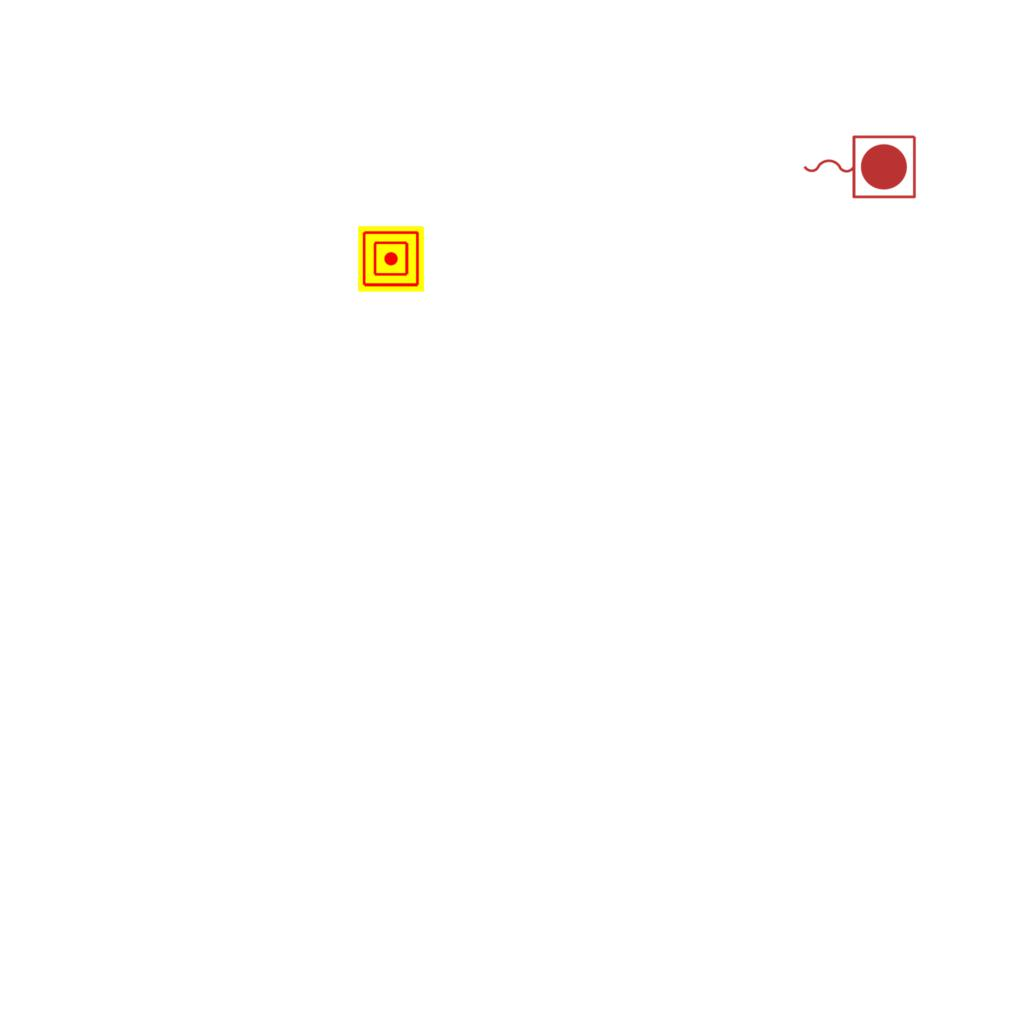NAM-Nichtautomatischer_Melder: (358, 226, 424, 292)
Zugtaster: (798, 130, 920, 202)
